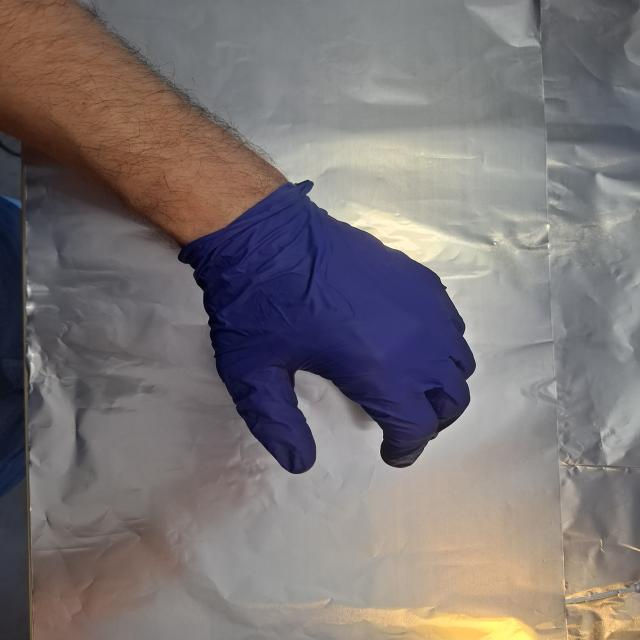glove_on: (175, 179, 480, 477)
